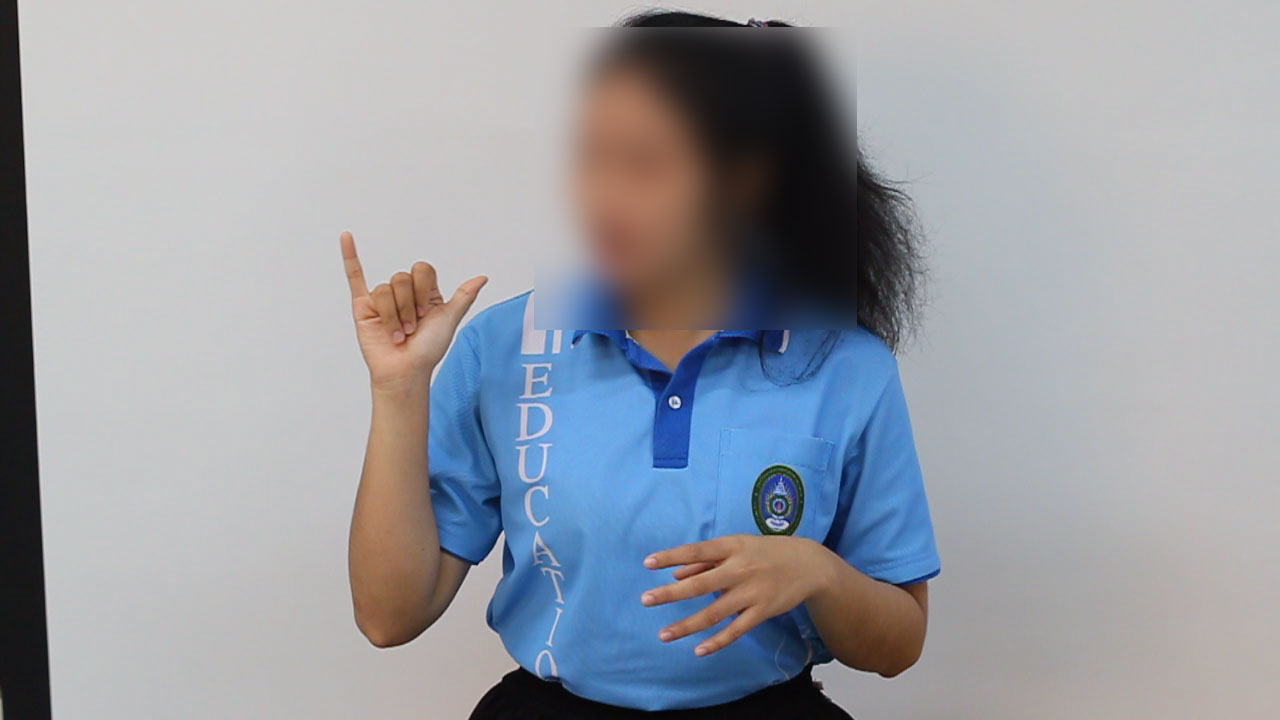yor: (324, 221, 497, 401)
